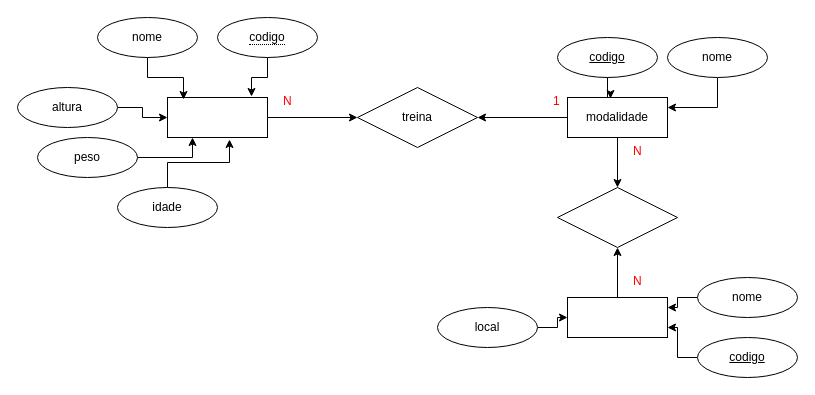
Image size: 815x395. Some labels were removed from this diagram. The shapes that lost their labels are listed below. From the top down, each one's centre as x and y in pixels, then its label:
[217,117]: atleta
[617,217]: inscrito
[617,317]: campeonato
